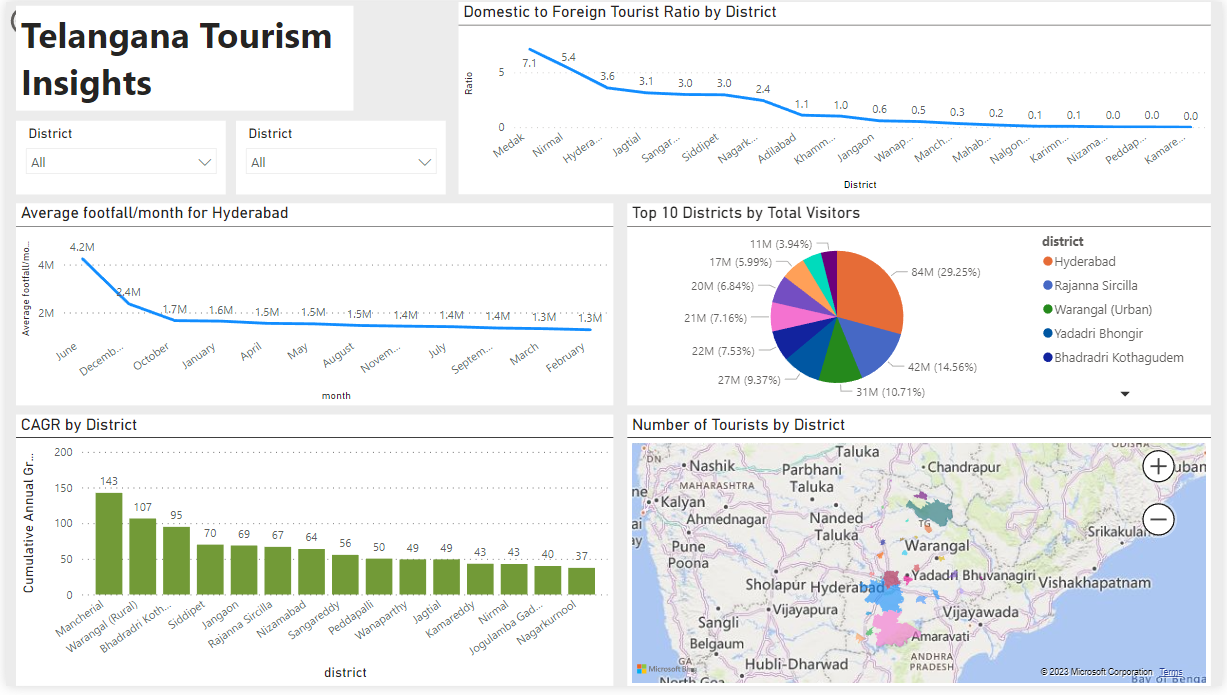

This screenshot's page, from the dashboard's own definition file:
{"tool":"powerbi","page":{"name":"Page 1","canvas":[1280,720],"ordinal":0},"visuals":[{"type":"columnChart","title":"CAGR by District ","fields":{"Category":["Query1.district"],"Y":["Sum(Query1.CAGR_percent)"]},"box":[10.5,434.2,628.9,285.5],"z":0},{"type":"filledMap","title":"Number of Tourists by District","fields":{"Category":["Query3.district"],"Series":["Query3.sum_total"]},"box":[653.9,434.2,614.5,286.8],"z":1000},{"type":"lineChart","title":"Average footfall/month for Hyderabad ","fields":{"Category":["Query6.month"],"Y":["Sum(Query6.average)"]},"box":[10.5,211.8,628.9,213.2],"z":2000},{"type":"pieChart","title":"Top 10 Districts by Total Visitors","fields":{"Category":["Query3.district"],"Y":["Sum(Query3.sum_total)"]},"box":[653.9,211.8,614.5,213.2],"z":2001},{"type":"lineChart","title":"Domestic to Foreign Tourist Ratio by District ","fields":{"Category":["Query2.district"],"Y":["Sum(Query2.ratio)"]},"box":[476.3,0,792.1,202.6],"z":2002},{"type":"slicer","fields":{"Values":["Query1.district"]},"box":[10.5,125,221.1,77.6],"z":2003},{"type":"slicer","fields":{"Values":["Query6.month"]},"box":[242.1,125,221.1,77.6],"z":2004},{"type":"actionButton","box":[0,0,100,40],"z":2005},{"type":"textbox","box":[10.5,3.9,355.3,110.5],"z":2006}]}

Visuals, with their boxes in screenshot pixels (x1, y1, x2, y2), scaled from the page's 1280x720 canvas onto the 1227x695 screenshot:
"CAGR by District " columnChart: rect(10, 419, 613, 694)
"Number of Tourists by District" filledMap: rect(627, 419, 1216, 694)
"Average footfall/month for Hyderabad " lineChart: rect(10, 204, 613, 410)
"Top 10 Districts by Total Visitors" pieChart: rect(627, 204, 1216, 410)
"Domestic to Foreign Tourist Ratio by District " lineChart: rect(457, 0, 1216, 196)
slicer - Query1.district: rect(10, 121, 222, 196)
slicer - Query6.month: rect(232, 121, 444, 196)
actionButton: rect(0, 0, 96, 39)
textbox: rect(10, 4, 351, 110)
